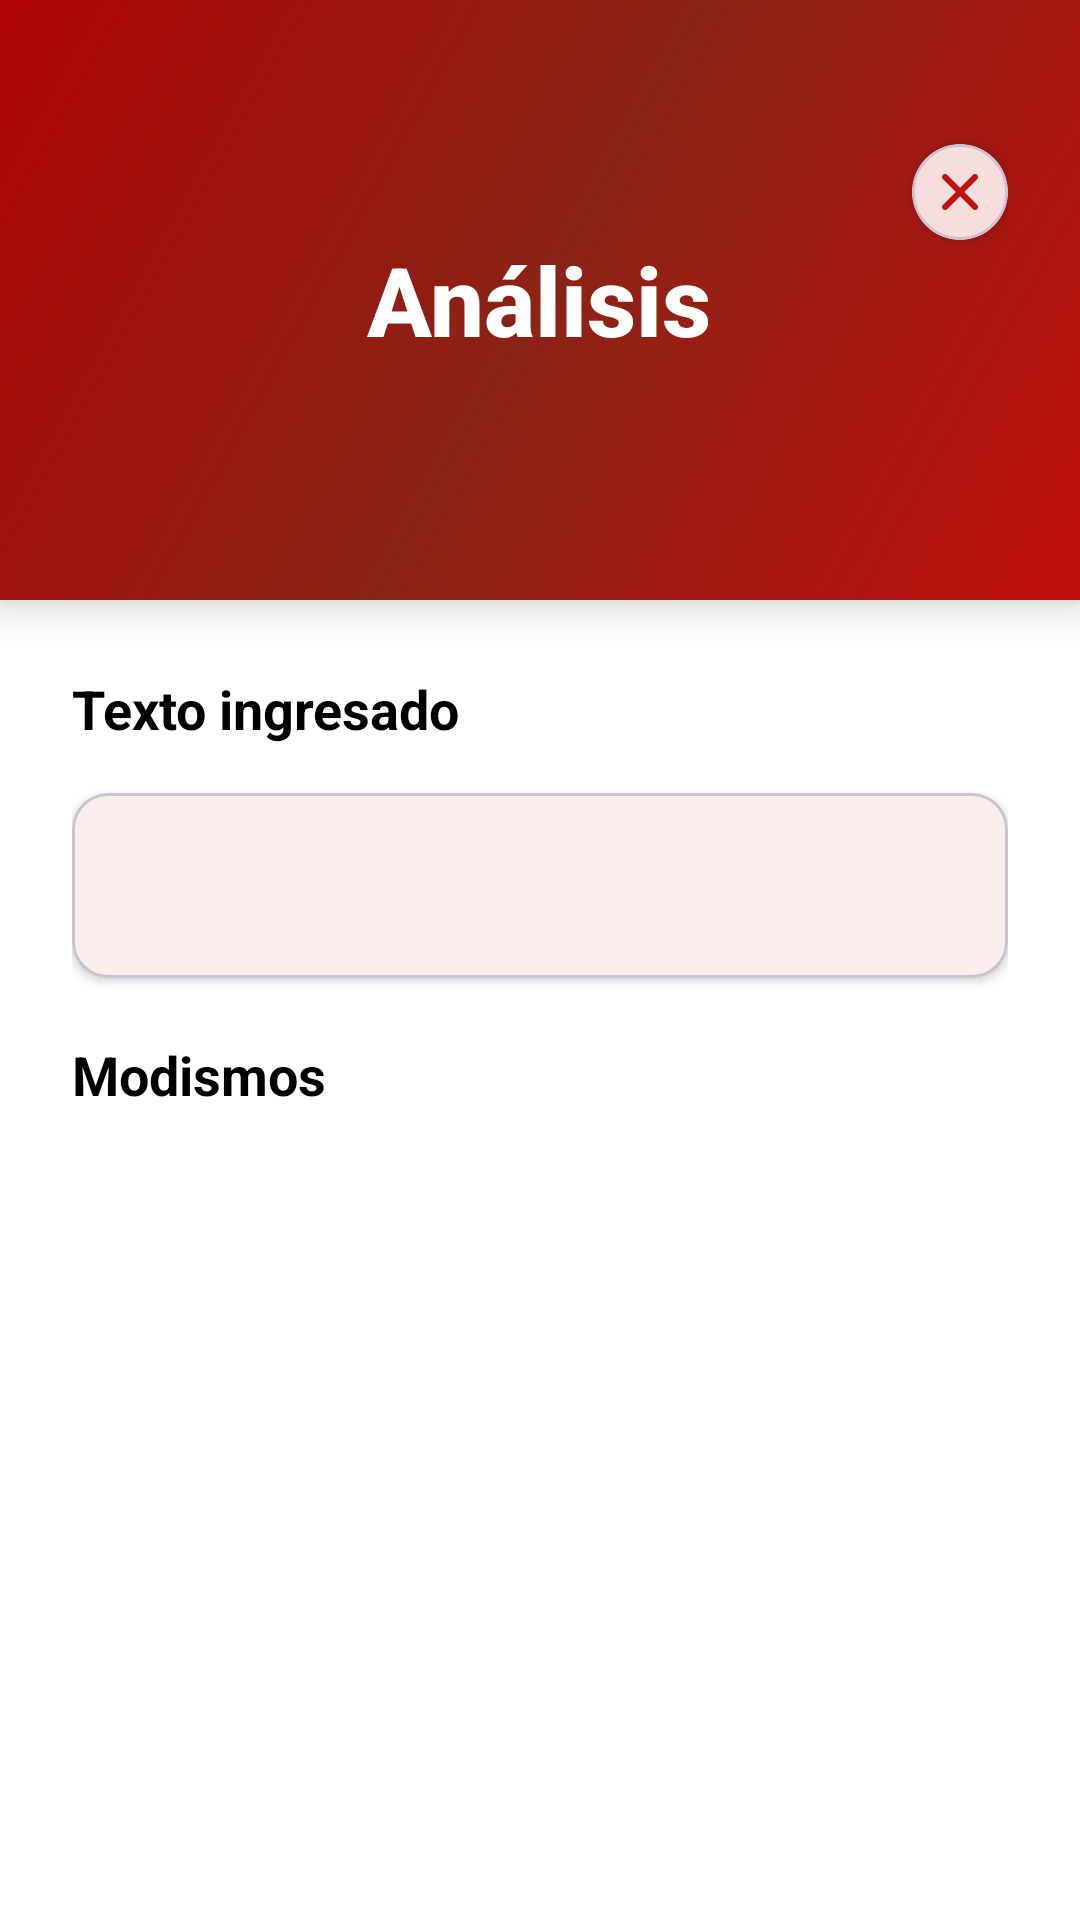

Named icons in this screenshot (1080w x 1920h) and their centers, (x=x, y=y):
close: (x=960, y=192)
